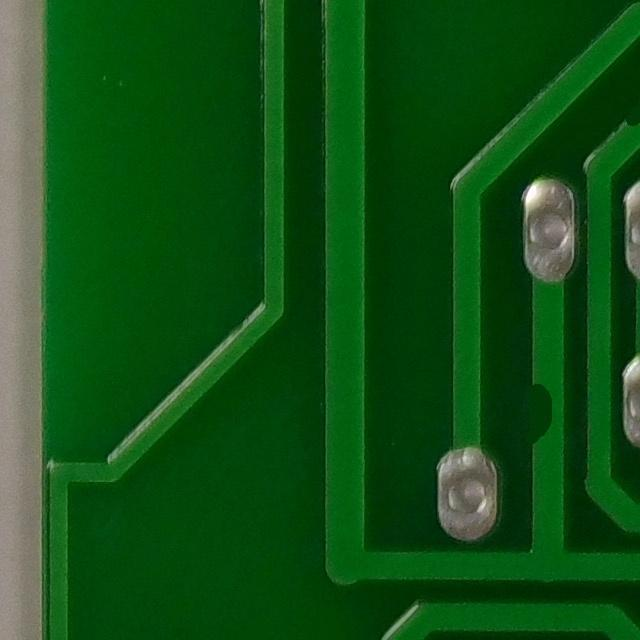mouse_bite: (517, 378, 576, 454)
